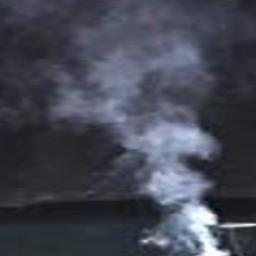smoke: (52, 0, 227, 255)
